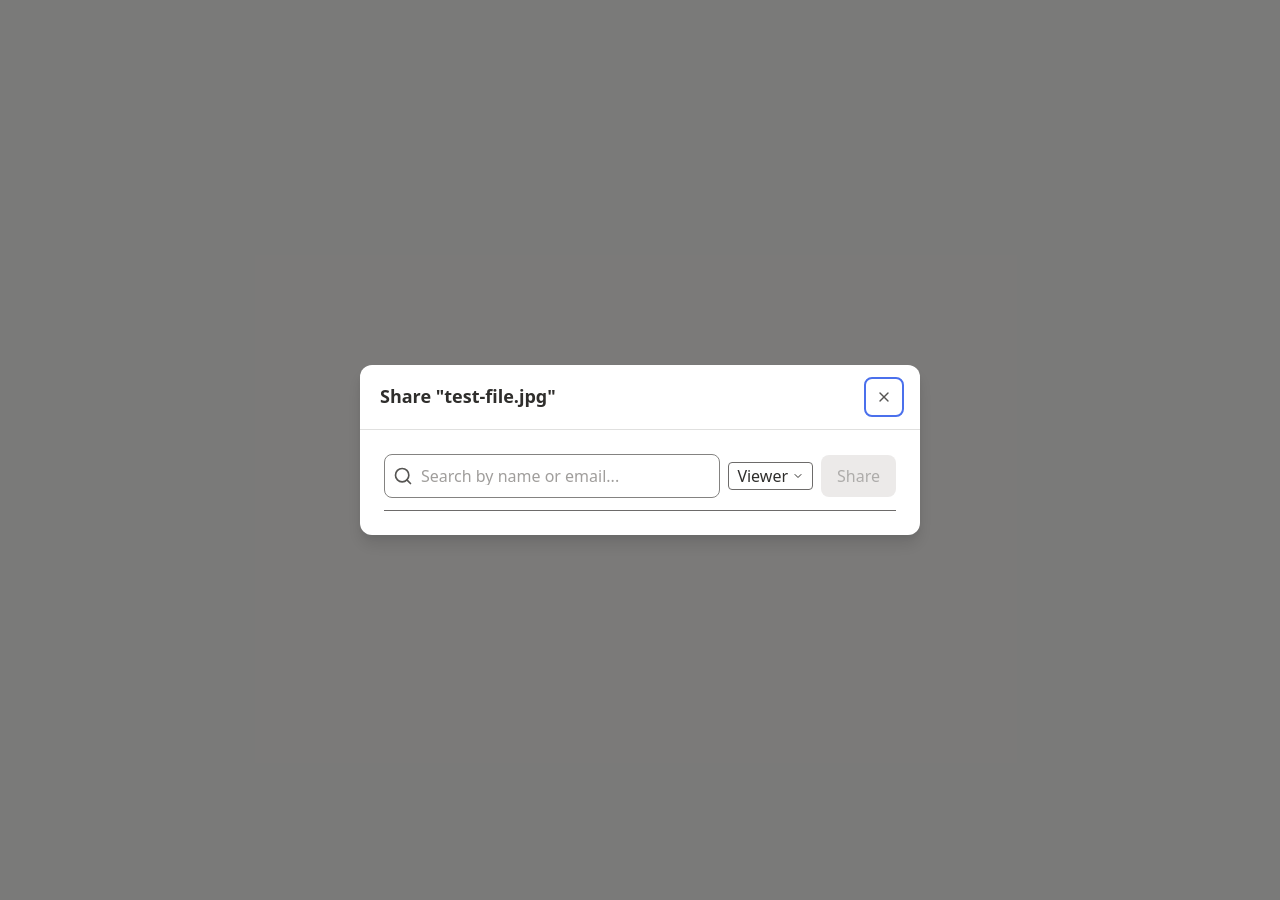
Test case: ShareDialog › edge cases › typing while staged clears staged user
Type "carol" into the dropdown with placeholder "Search by name or email...".
click(566, 476); type("carol")  # box [421,467,711,485]
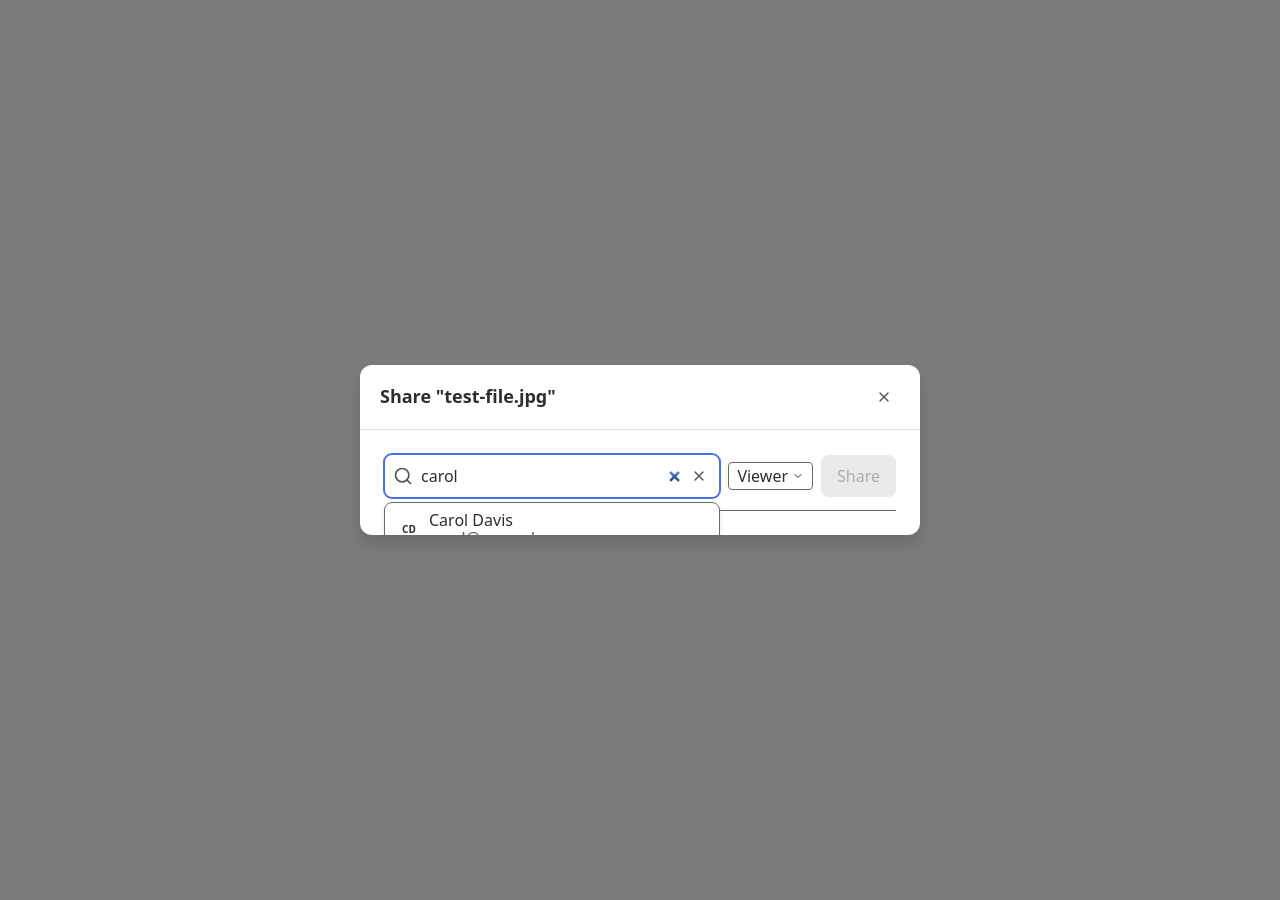
Expected: the text "Carol Davis" is shown
Click the text "Carol Davis".
click(471, 520)  # box [429,509,513,531]
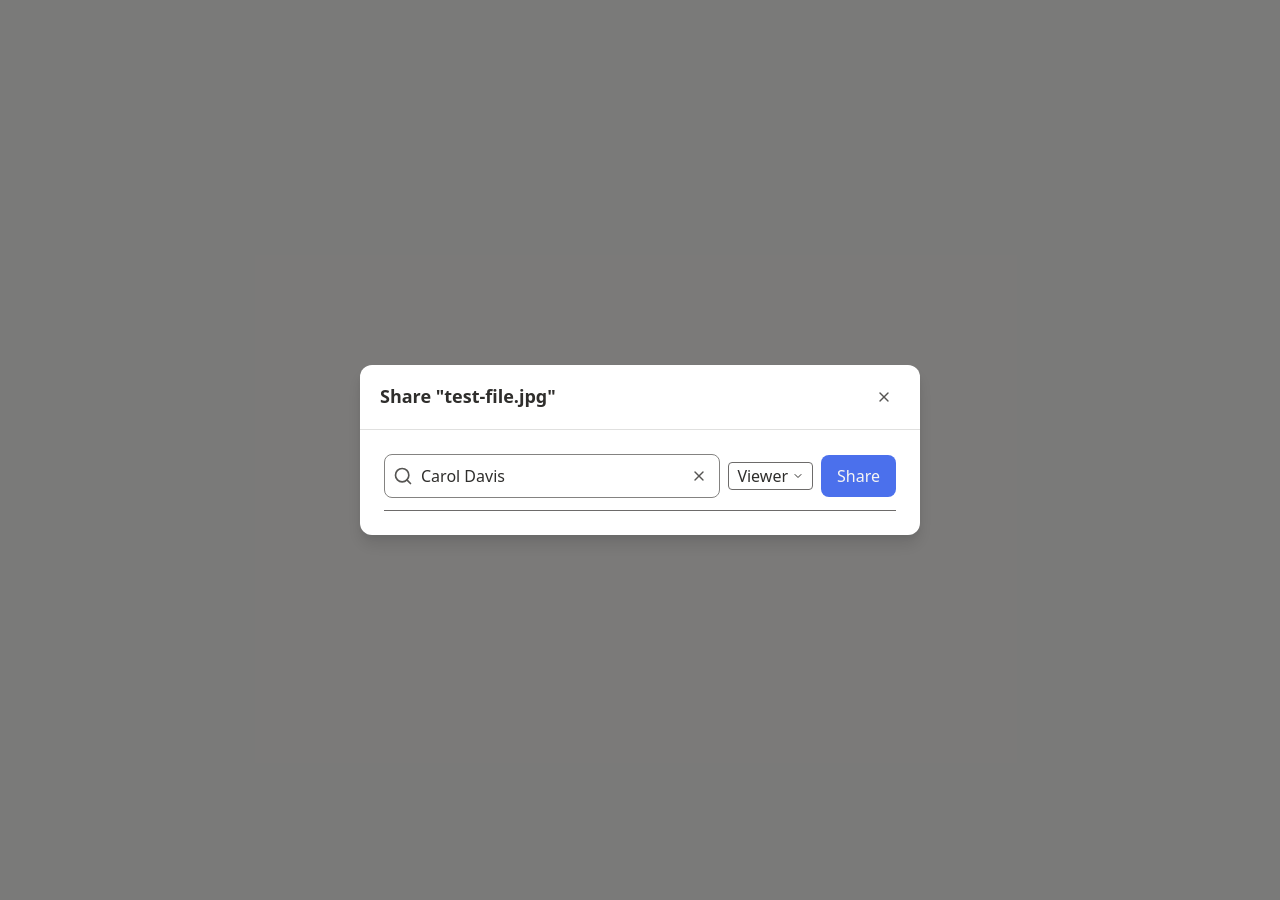
Expected: the button "Share" is enabled, [821,455,896,497]
Press a in the dropdown with placeholder "Search by name or email...", box [421,467,683,485]
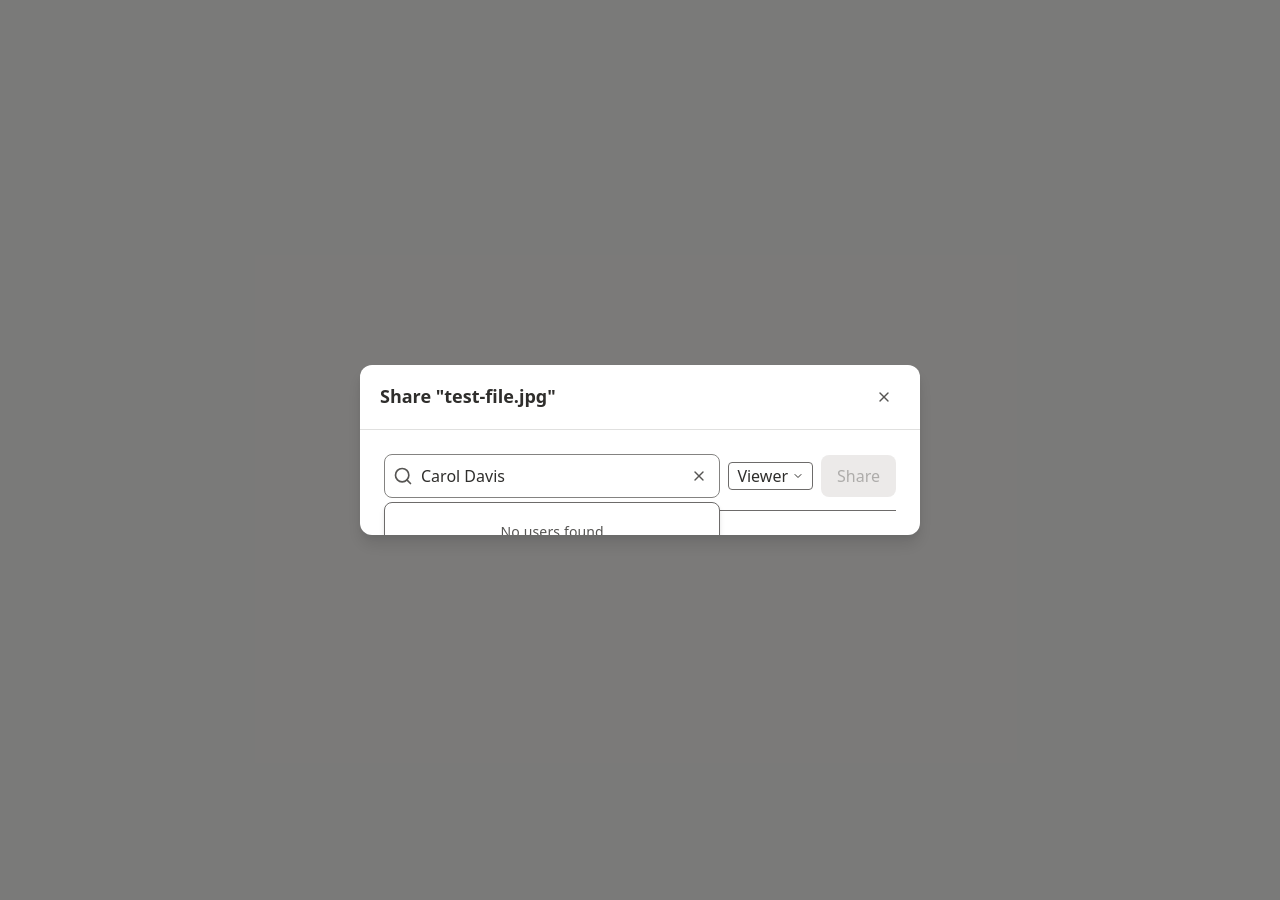
Expected: the button "Share" is disabled, [821,455,896,497]
